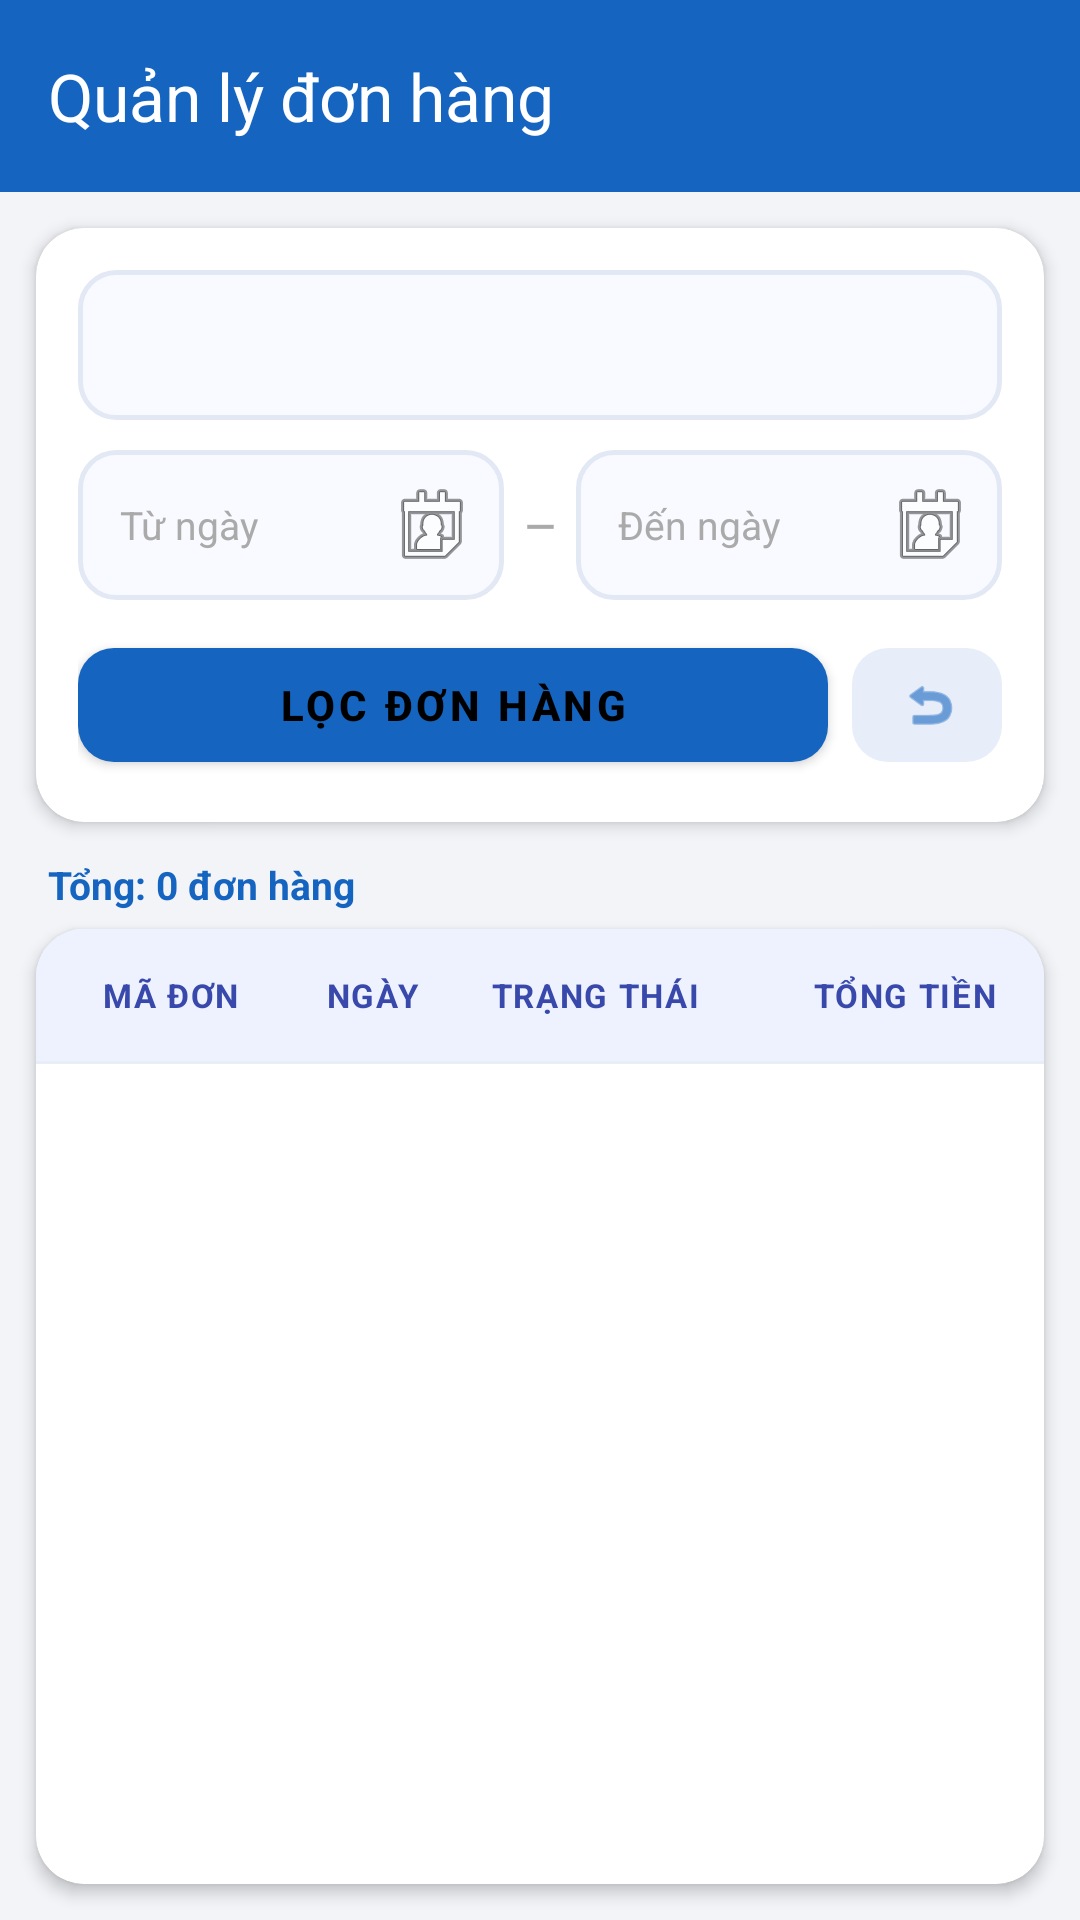

Screen size 1080x1920. Icon name, then its box in pixels as (x1, y1, x2, y2):
revert: (909, 685, 953, 725)
